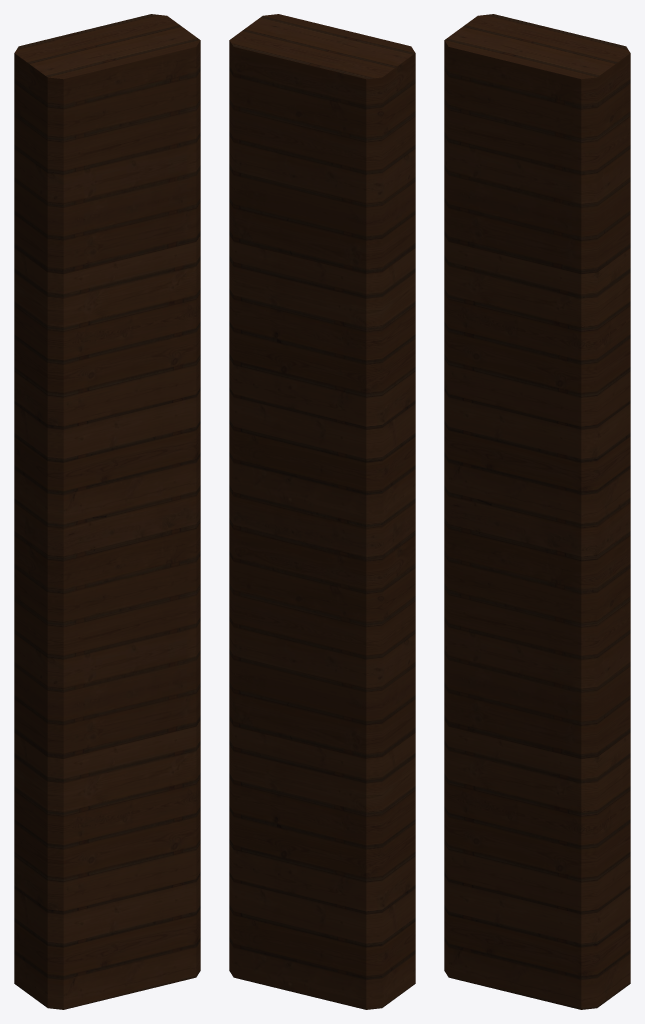
Rendered from building.glb.
3 views of the same model, side by side, from view 1: azimuth 30°, elevation 25°; view 2: azimuth 150°, elevation 25°; view 3: azimuth 330°, elevation 25° (orthographic).
Parts seen in each view (by area): view 1: vertical_member/madera_chamfered_post/member_shaft#0001; view 2: vertical_member/madera_chamfered_post/member_shaft#0001; view 3: vertical_member/madera_chamfered_post/member_shaft#0001.
Boxes of the visible parts, box(x1,y1,x2,y2) form: vertical_member/madera_chamfered_post/member_shaft#0001: box(14, 14, 200, 1009); vertical_member/madera_chamfered_post/member_shaft#0001: box(229, 14, 415, 1009); vertical_member/madera_chamfered_post/member_shaft#0001: box(444, 14, 630, 1009).
Size of the model in its own units: 0.55 by 3.2 by 0.28.
Materials: 1 (1 with a texture image).
